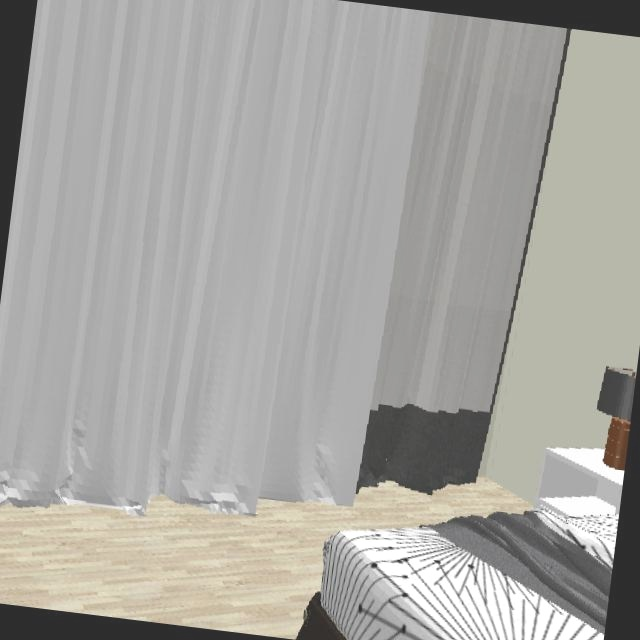bed: (295, 509, 616, 640)
lamp: (596, 366, 636, 471)
nighttable: (537, 448, 624, 516)
